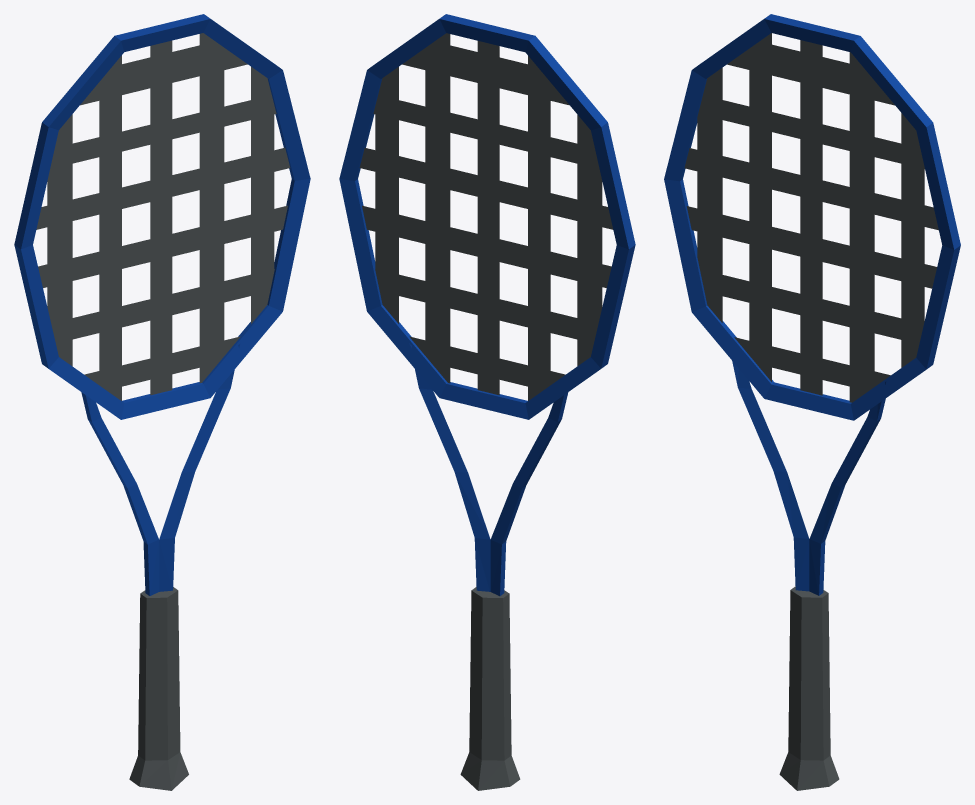
The model's file is Badminton_racket_green003.fbx.
3 renders of one model, left to right at view 1: azimuth 30°, elevation 25°; view 2: azimuth 150°, elevation 25°; view 3: azimuth 330°, elevation 25°, orthographic.
Visible parts, largest first — view 1: Badminton_racket_green003; view 2: Badminton_racket_green003; view 3: Badminton_racket_green003.
Part boxes in pixels (bbox=[...]): Badminton_racket_green003: bbox=[14, 14, 310, 790]; Badminton_racket_green003: bbox=[339, 14, 635, 790]; Badminton_racket_green003: bbox=[664, 14, 960, 790].
Size of the model in its own units: 26.05 by 64.78 by 3.86.
